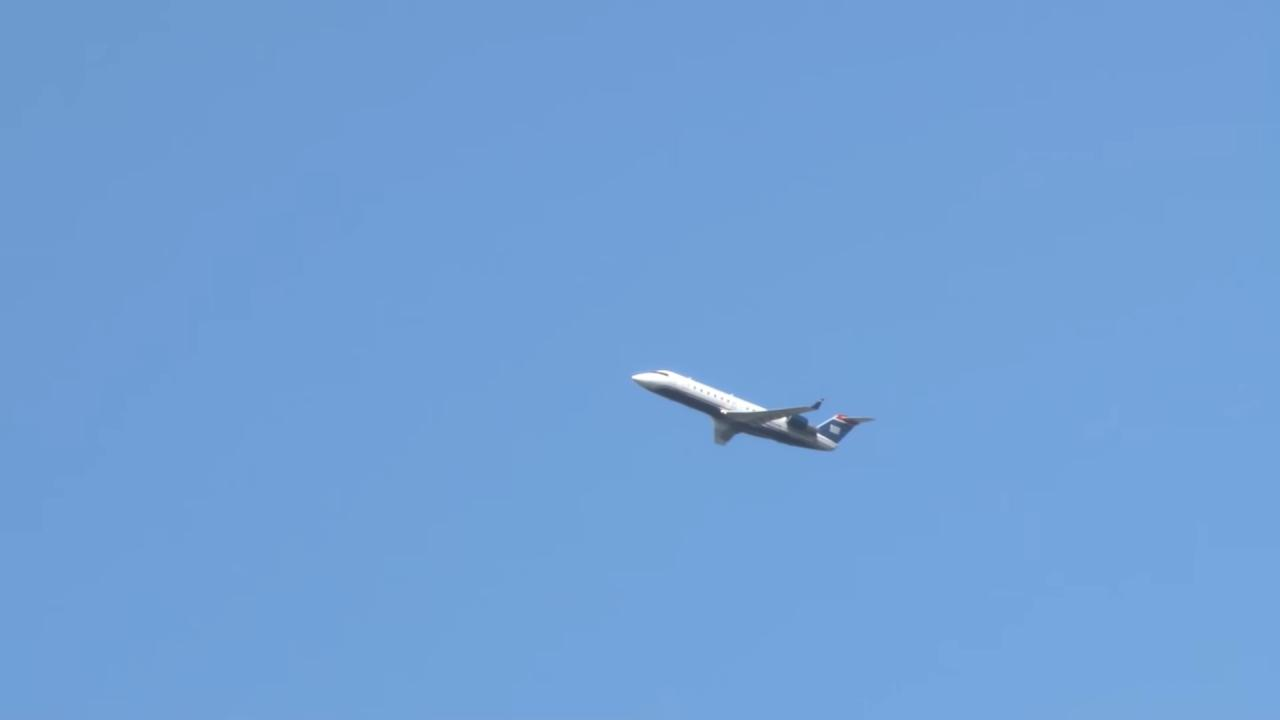Airplane: (614, 354, 884, 468)
